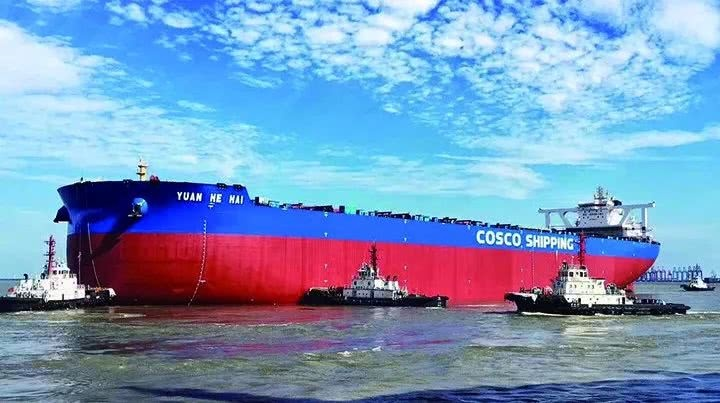Cargoship: (58, 146, 664, 304)
otherboat: (491, 250, 694, 318), (294, 253, 456, 312), (1, 235, 100, 311), (677, 270, 716, 296)
